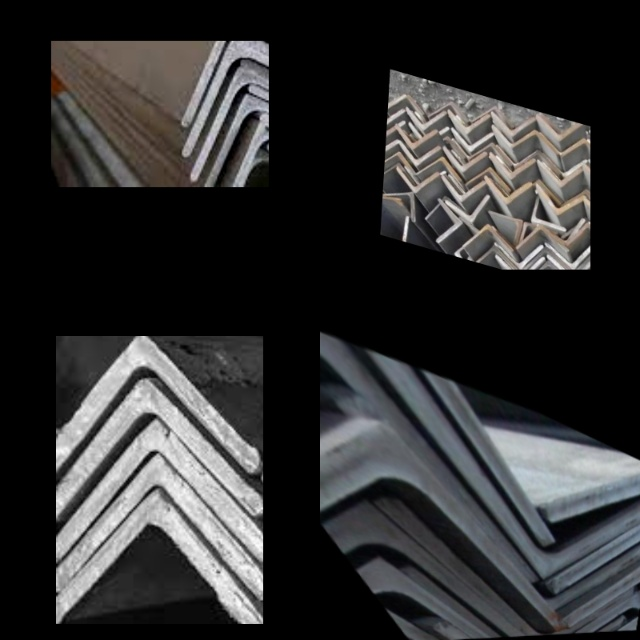Angle: (351, 326, 640, 585), (320, 401, 559, 633), (320, 320, 527, 582), (320, 320, 544, 543), (397, 489, 637, 639), (320, 507, 531, 640), (57, 432, 263, 554), (58, 502, 258, 624), (57, 469, 262, 588), (59, 344, 251, 461), (60, 394, 256, 506), (538, 418, 640, 603), (417, 567, 623, 639), (540, 499, 640, 625), (361, 575, 517, 640), (185, 48, 269, 153), (194, 75, 269, 177), (186, 41, 269, 122), (561, 550, 640, 634), (207, 102, 269, 185), (444, 615, 625, 639), (549, 593, 640, 635), (393, 617, 497, 640), (518, 222, 568, 261), (464, 219, 511, 260), (238, 131, 269, 186), (545, 233, 590, 270), (494, 234, 540, 270), (484, 172, 530, 207), (537, 185, 583, 218), (417, 152, 460, 186), (536, 111, 581, 143), (448, 186, 487, 222), (467, 163, 509, 195), (515, 126, 557, 158), (553, 619, 637, 635), (441, 173, 482, 205), (492, 108, 533, 140), (472, 242, 518, 270), (444, 144, 485, 175), (427, 193, 463, 228), (538, 159, 580, 189), (495, 245, 544, 270), (449, 106, 488, 137), (397, 165, 436, 196), (470, 139, 510, 169), (526, 245, 572, 270), (397, 122, 435, 152), (452, 124, 491, 153), (399, 138, 438, 167), (247, 48, 269, 97), (493, 123, 531, 151), (430, 97, 468, 125), (473, 102, 510, 130), (521, 148, 559, 175), (383, 186, 415, 217), (406, 105, 442, 132), (548, 247, 590, 270), (489, 212, 519, 244), (388, 90, 422, 118), (255, 60, 269, 127), (438, 201, 459, 245), (384, 160, 415, 189), (380, 211, 407, 242), (563, 135, 590, 165), (568, 220, 590, 251)
